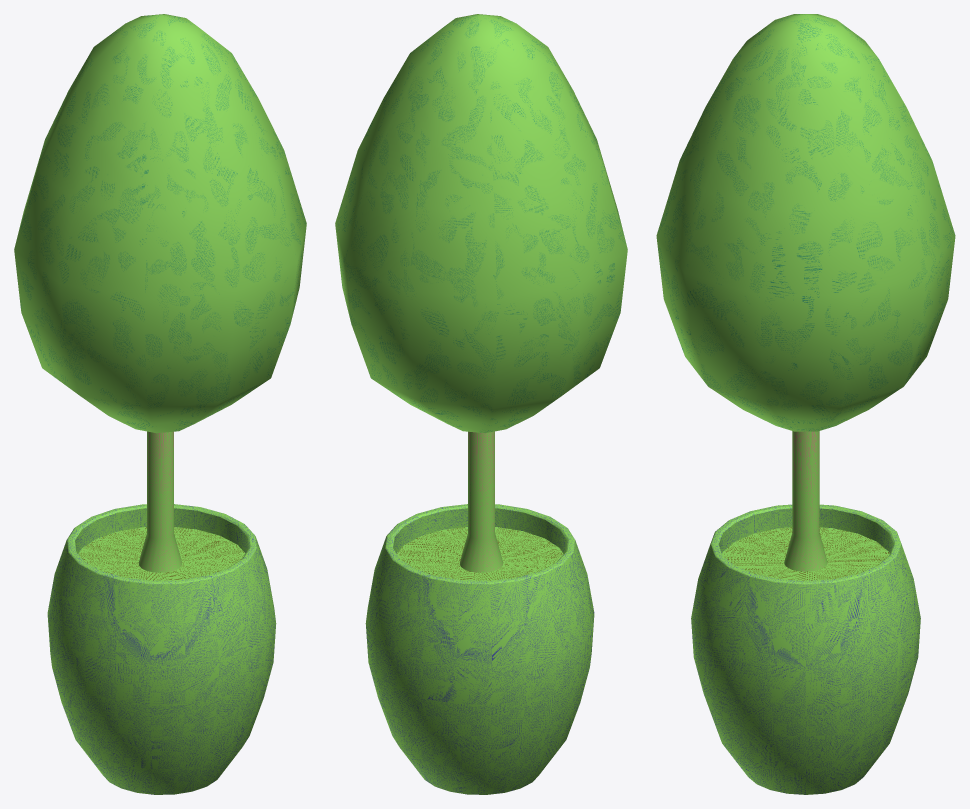
Rendered from Tree_Model.fbx.
The picture shows the model from 3 angles, left to right: view 1: azimuth 30°, elevation 25°; view 2: azimuth 150°, elevation 25°; view 3: azimuth 270°, elevation 25°; orthographic projection.
Parts seen in each view (by area): view 1: pSphere3; view 2: pSphere3; view 3: pSphere3.
Boxes of the visible parts, x1,y1,x2,y2 form: pSphere3: [14, 14, 306, 794]; pSphere3: [335, 14, 627, 794]; pSphere3: [656, 14, 955, 794].
Bounding box in the file's own units: 2.54 × 7.44 × 2.68.
Materials: 1 (1 with a texture image).
